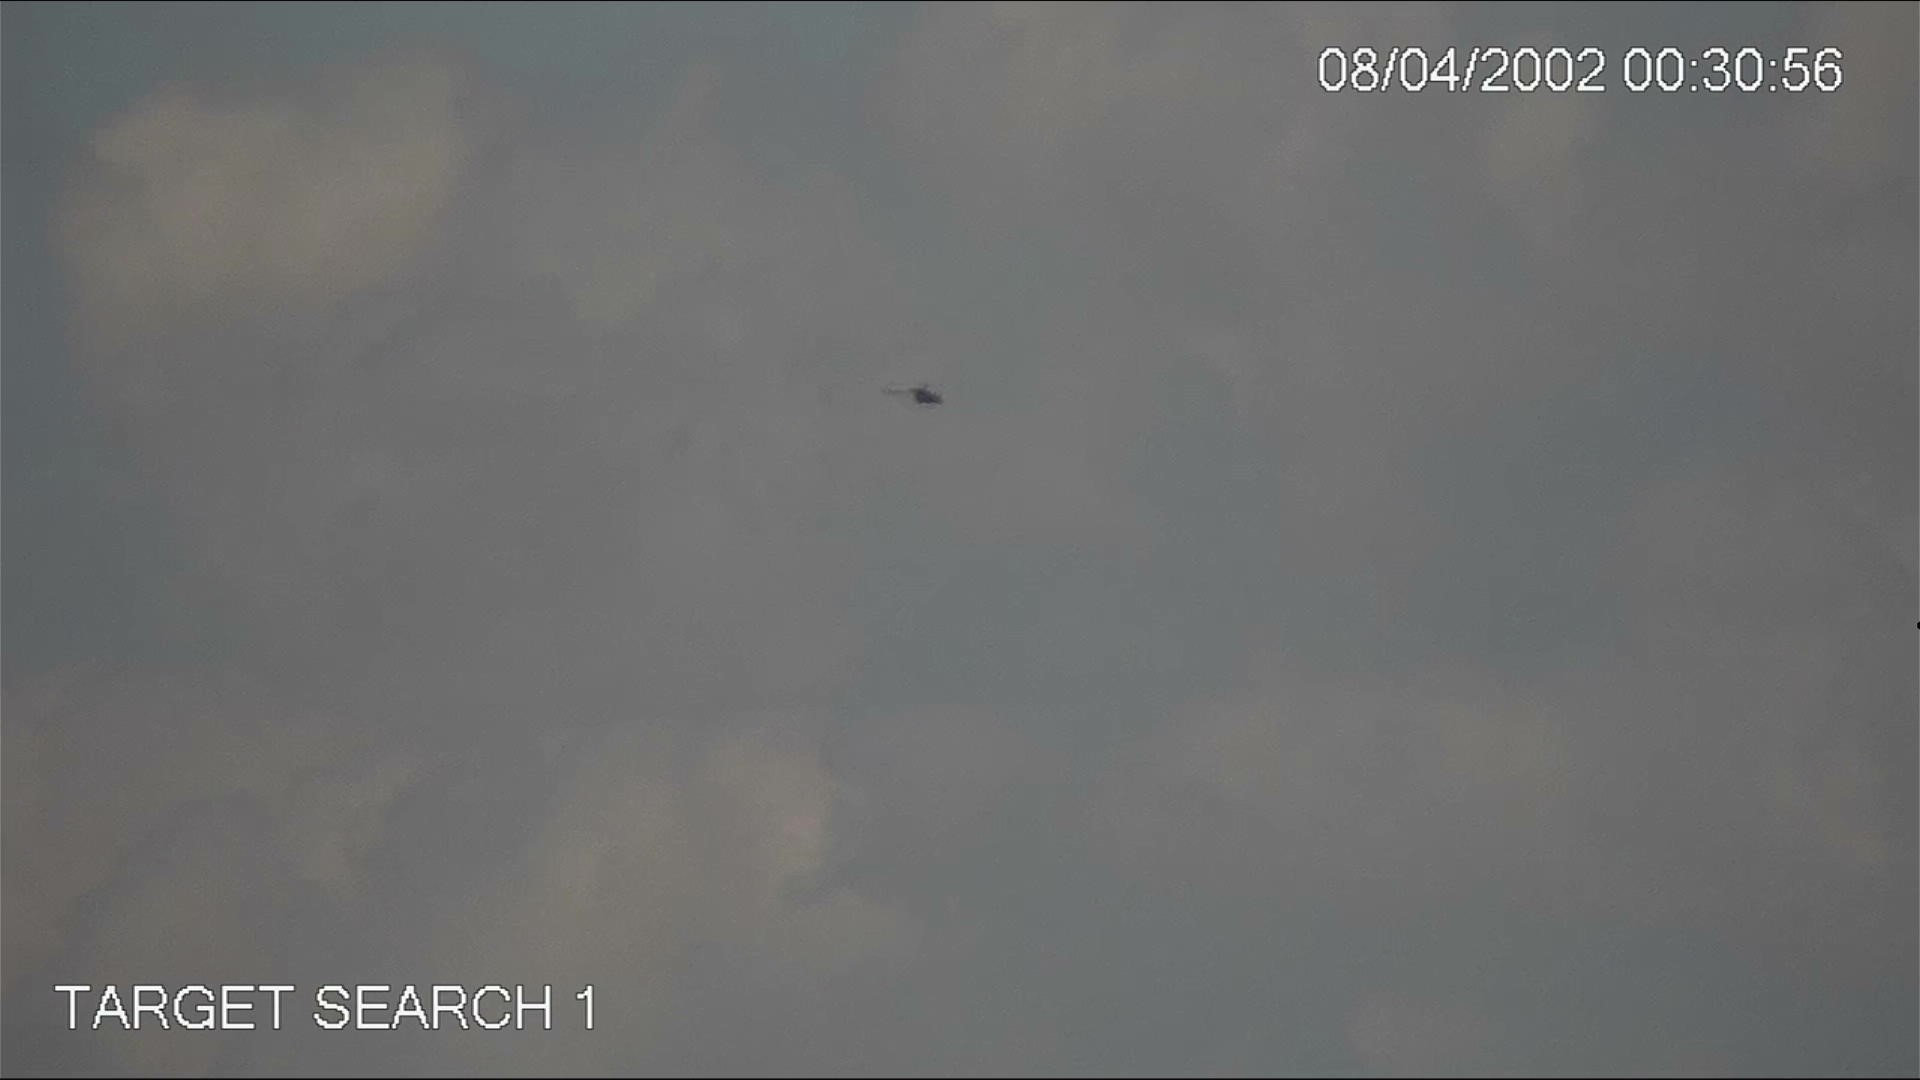SU_30: (881, 380, 952, 411)
